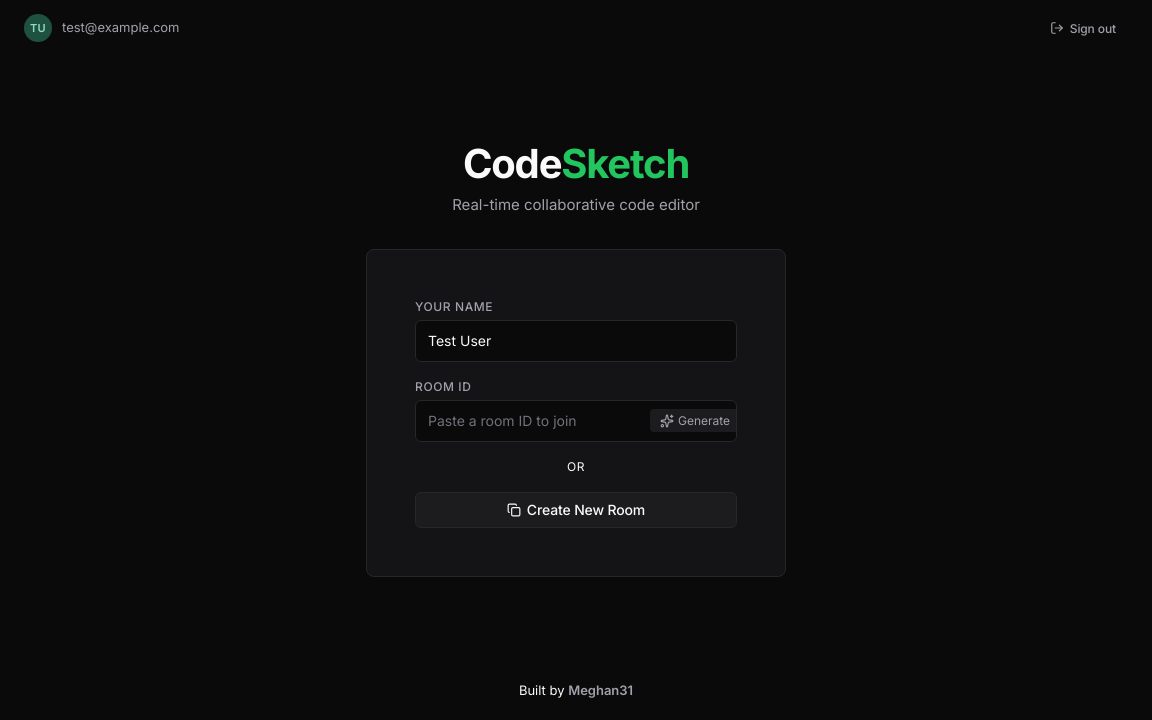
Home page › shows "Join Room" button only after a room ID is typed
Expected: the button "join room" is not shown
In the field with placeholder "Paste a room ID to join": (533, 420) left=416, top=400, right=650, bottom=440, type "550e8400-e29b-41d4-a716-446655440000"
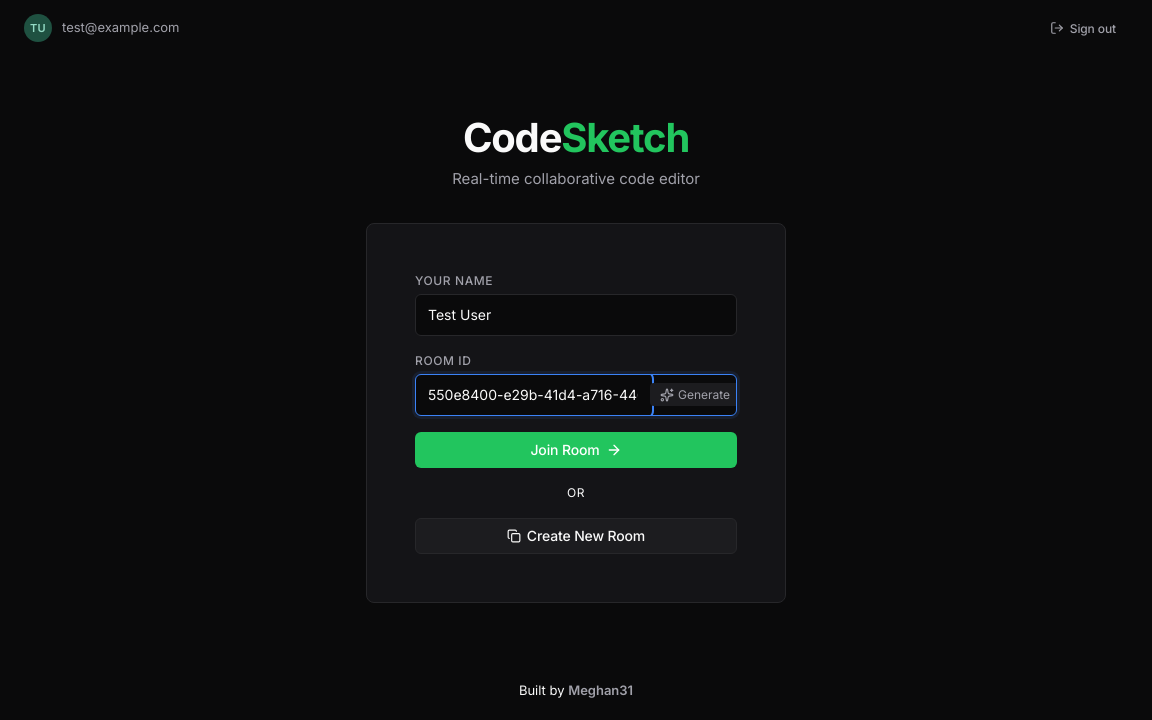
Expected: the button "Join Room" is shown, left=415, top=432, right=737, bottom=468
